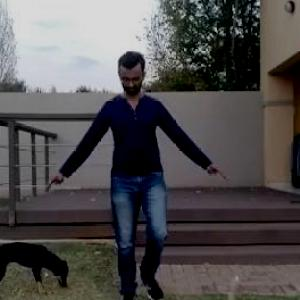land: (71, 67, 222, 299)
